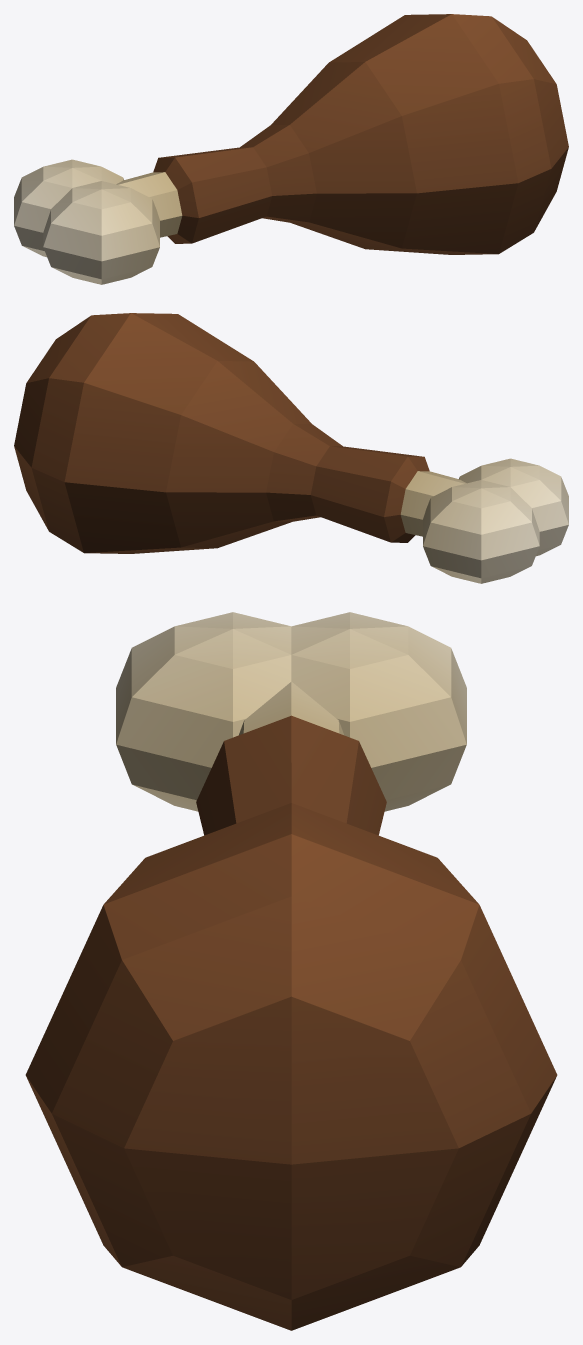
File: meat_2.glb
The picture shows the model from 3 angles, top to bottom: view 1: azimuth 30°, elevation 25°; view 2: azimuth 150°, elevation 25°; view 3: azimuth 270°, elevation 25°; orthographic projection. The views are drawn at different scales.
Parts seen in each view (by area): view 1: meat_2; view 2: meat_2; view 3: meat_2.
Boxes of the visible parts, x1,y1,x2,y2 form: meat_2: (14, 14, 568, 284); meat_2: (14, 313, 568, 583); meat_2: (25, 612, 557, 1330).
Bounding box in the file's own units: 0.2341 × 0.1047 × 0.1047.
1 material, 1 textured.
